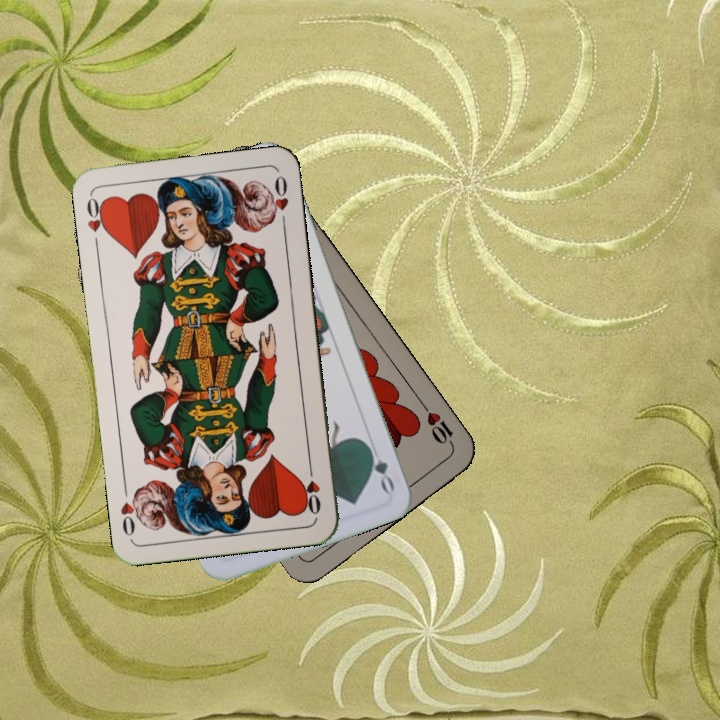GO: (361, 437, 398, 496)
H10: (417, 400, 458, 452)
HO: (82, 193, 111, 251), (299, 459, 323, 517)
